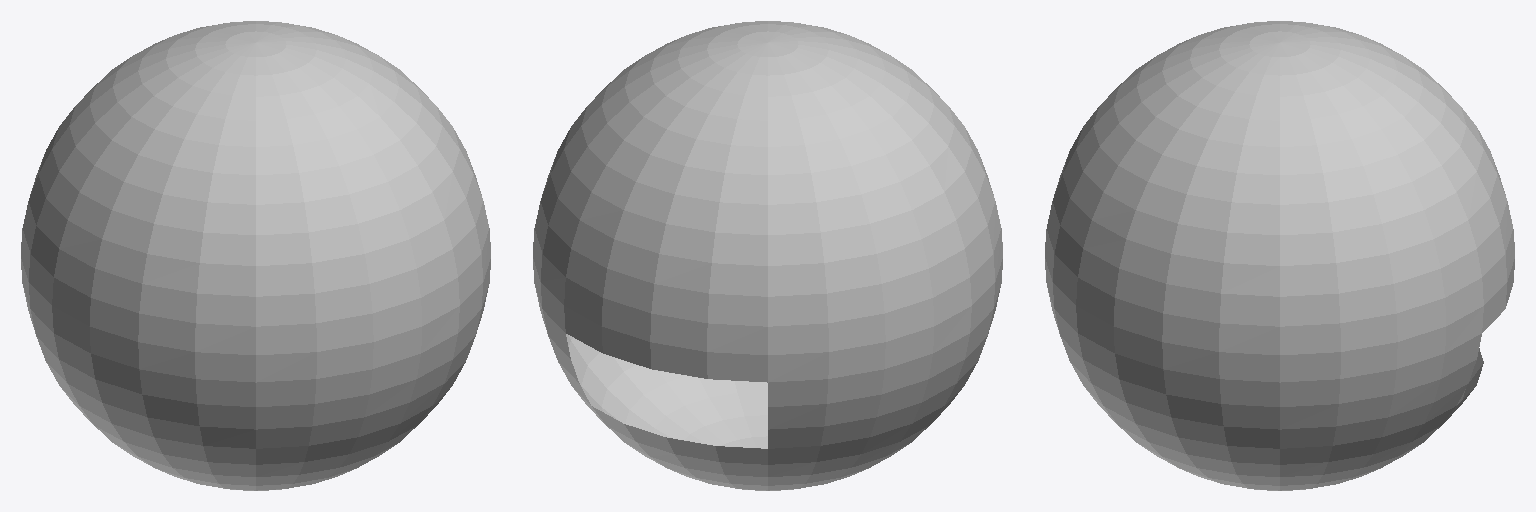
The model's file is ar-portal-container.obj.
3 views of the same model, side by side, from view 1: azimuth 30°, elevation 25°; view 2: azimuth 150°, elevation 25°; view 3: azimuth 270°, elevation 25° (orthographic).
Parts seen in each view (by area): view 1: ar_container; view 2: ar_container; view 3: ar_container.
Part boxes in pixels (x1,y1,x2,y2): ar_container: (21,21,490,490); ar_container: (533,21,1002,490); ar_container: (1045,21,1514,490).
Bounding box in the file's own units: 1 × 1 × 1.